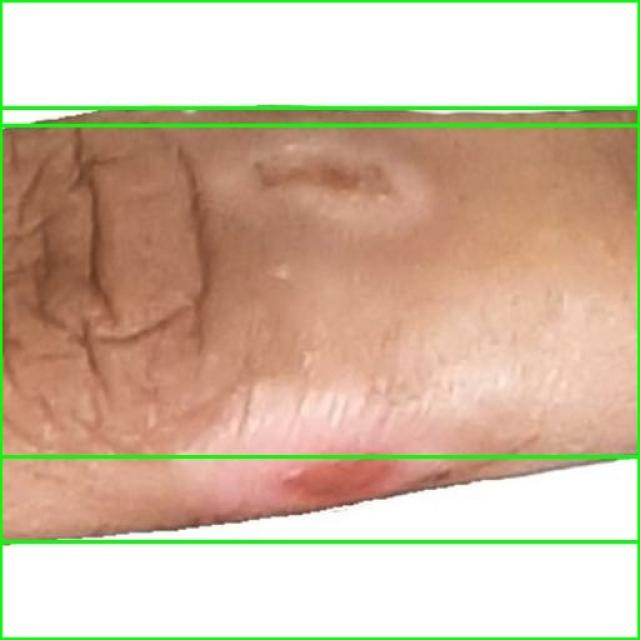Atopic Dermatitis: (0, 108, 639, 541), (0, 456, 639, 639), (0, 0, 639, 126)
